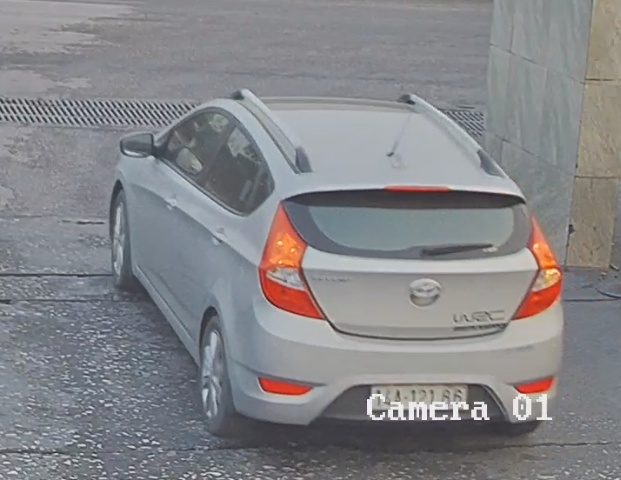vehicle plate: (369, 379, 472, 412)
